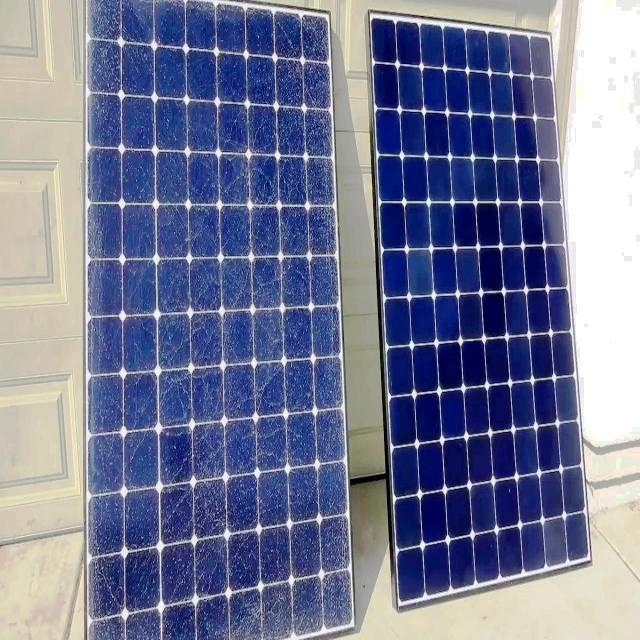faulty: (86, 0, 356, 640)
no faulty: (367, 11, 592, 616)
